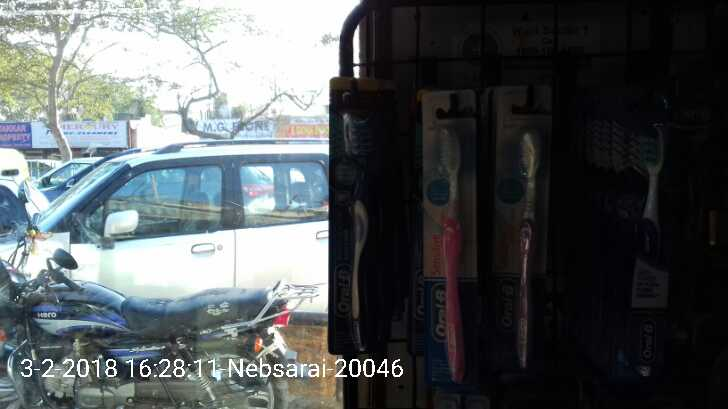oralb: (611, 127, 674, 393), (423, 120, 482, 402), (334, 110, 382, 352), (503, 124, 544, 381)
